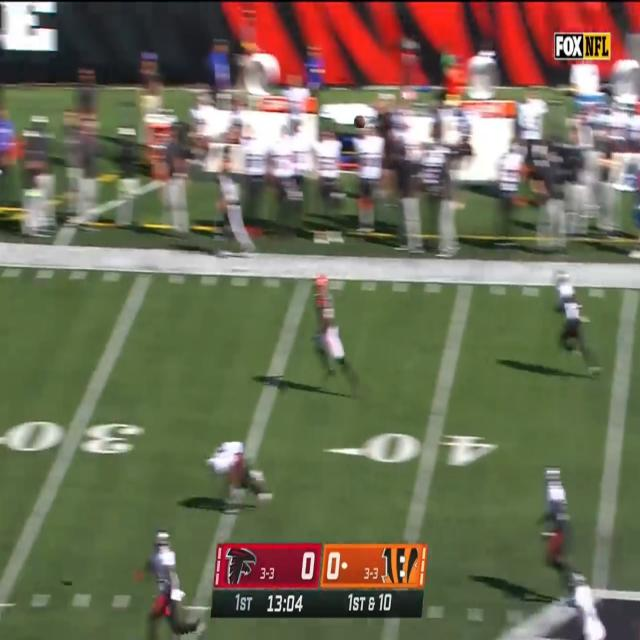Ball: (354, 115, 365, 129)
